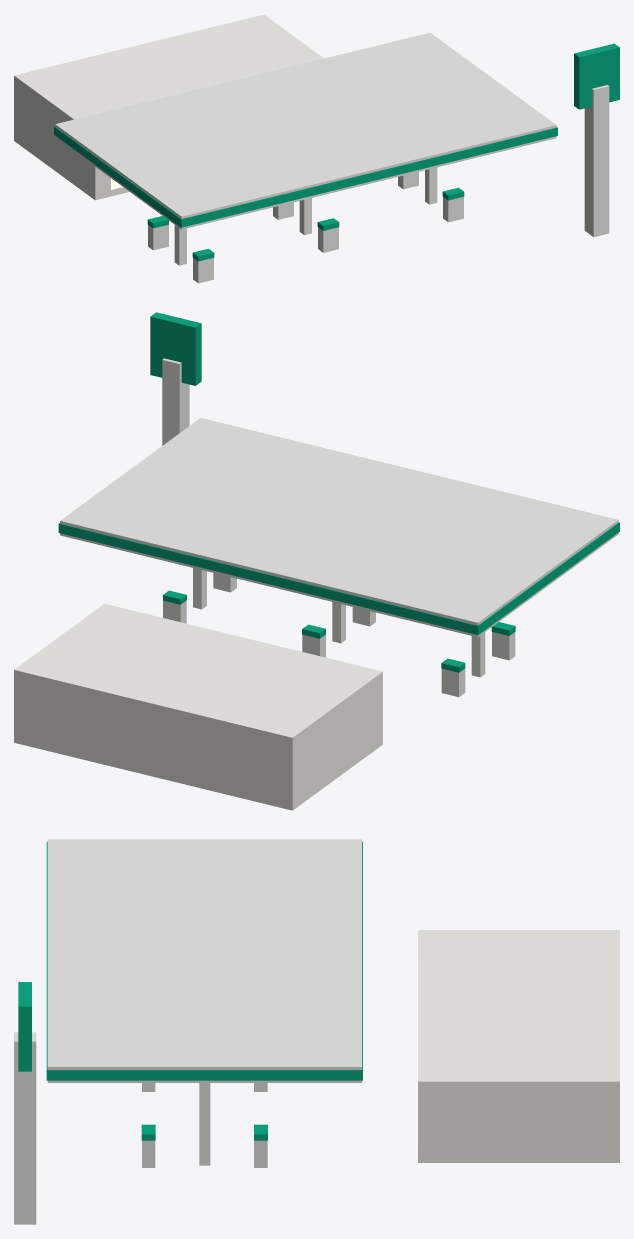
Rendered from SM_GasStation.fbx.
The picture shows the model from 3 angles, top to bottom: view 1: azimuth 30°, elevation 25°; view 2: azimuth 150°, elevation 25°; view 3: azimuth 270°, elevation 25°; orthographic projection. The views are drawn at different scales.
Visible parts, largest first — view 1: SM_GasStation; view 2: SM_GasStation; view 3: SM_GasStation.
Part boxes in pixels (<box>): SM_GasStation: <box>14,14,619,283</box>; SM_GasStation: <box>14,312,619,810</box>; SM_GasStation: <box>14,839,619,1224</box>.
Bounding box in the file's own units: 2735 × 1110 × 2700.
